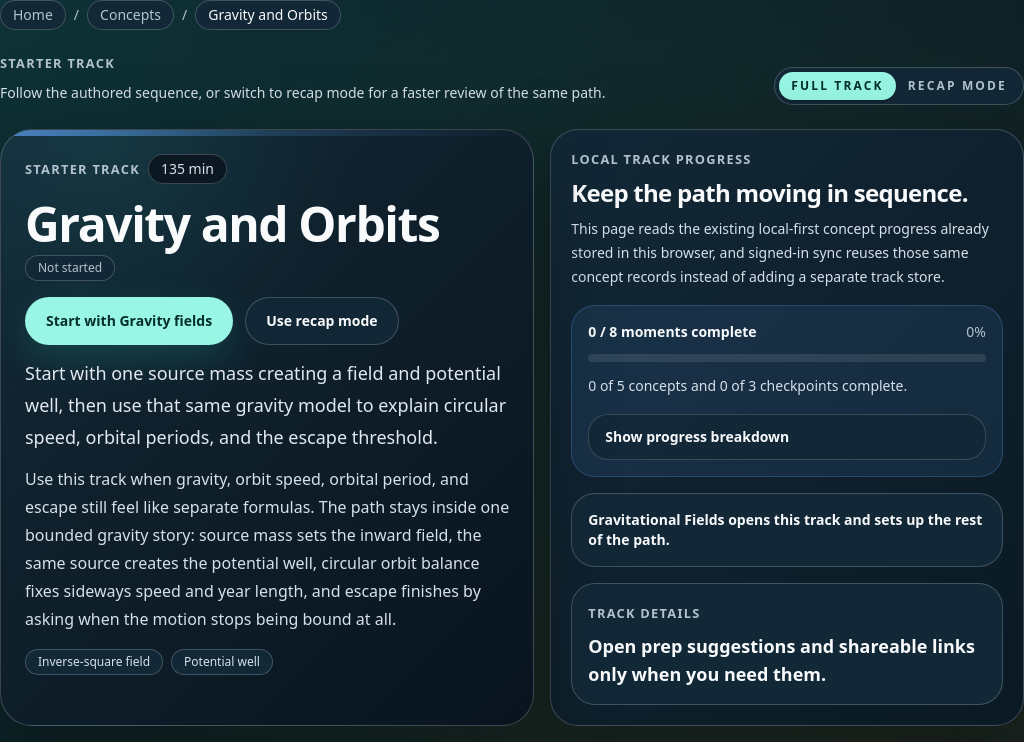
it: StarterTrackDetailPage › surfaces the gravity track as a bounded orbit path with authored prerequisite guidance
The image size is (1024, 742).
expect the heading "Gravity and Orbits" is shown: met, box x1=25 y1=200 x2=439 y2=247
Click the text "Track details" at (644, 613), box x1=588 y1=604 x2=700 y2=622
(page scrolled)
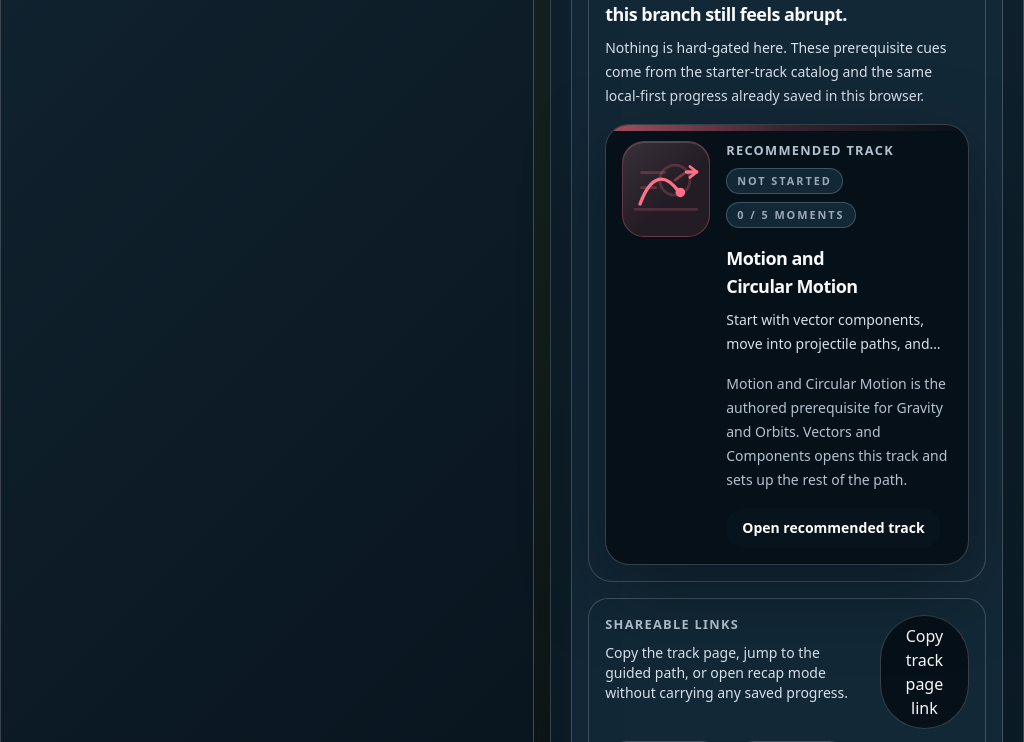
expect the text "Motion and Circular Motion is the authored prerequisite for Gravity and Orbits" is shown: met, box x1=726 y1=374 x2=947 y2=489
